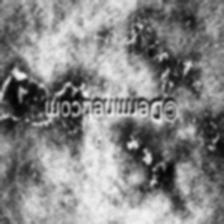Non-Cancerous Skin Condition: (31, 131, 224, 224), (50, 0, 224, 88), (0, 44, 39, 117)
